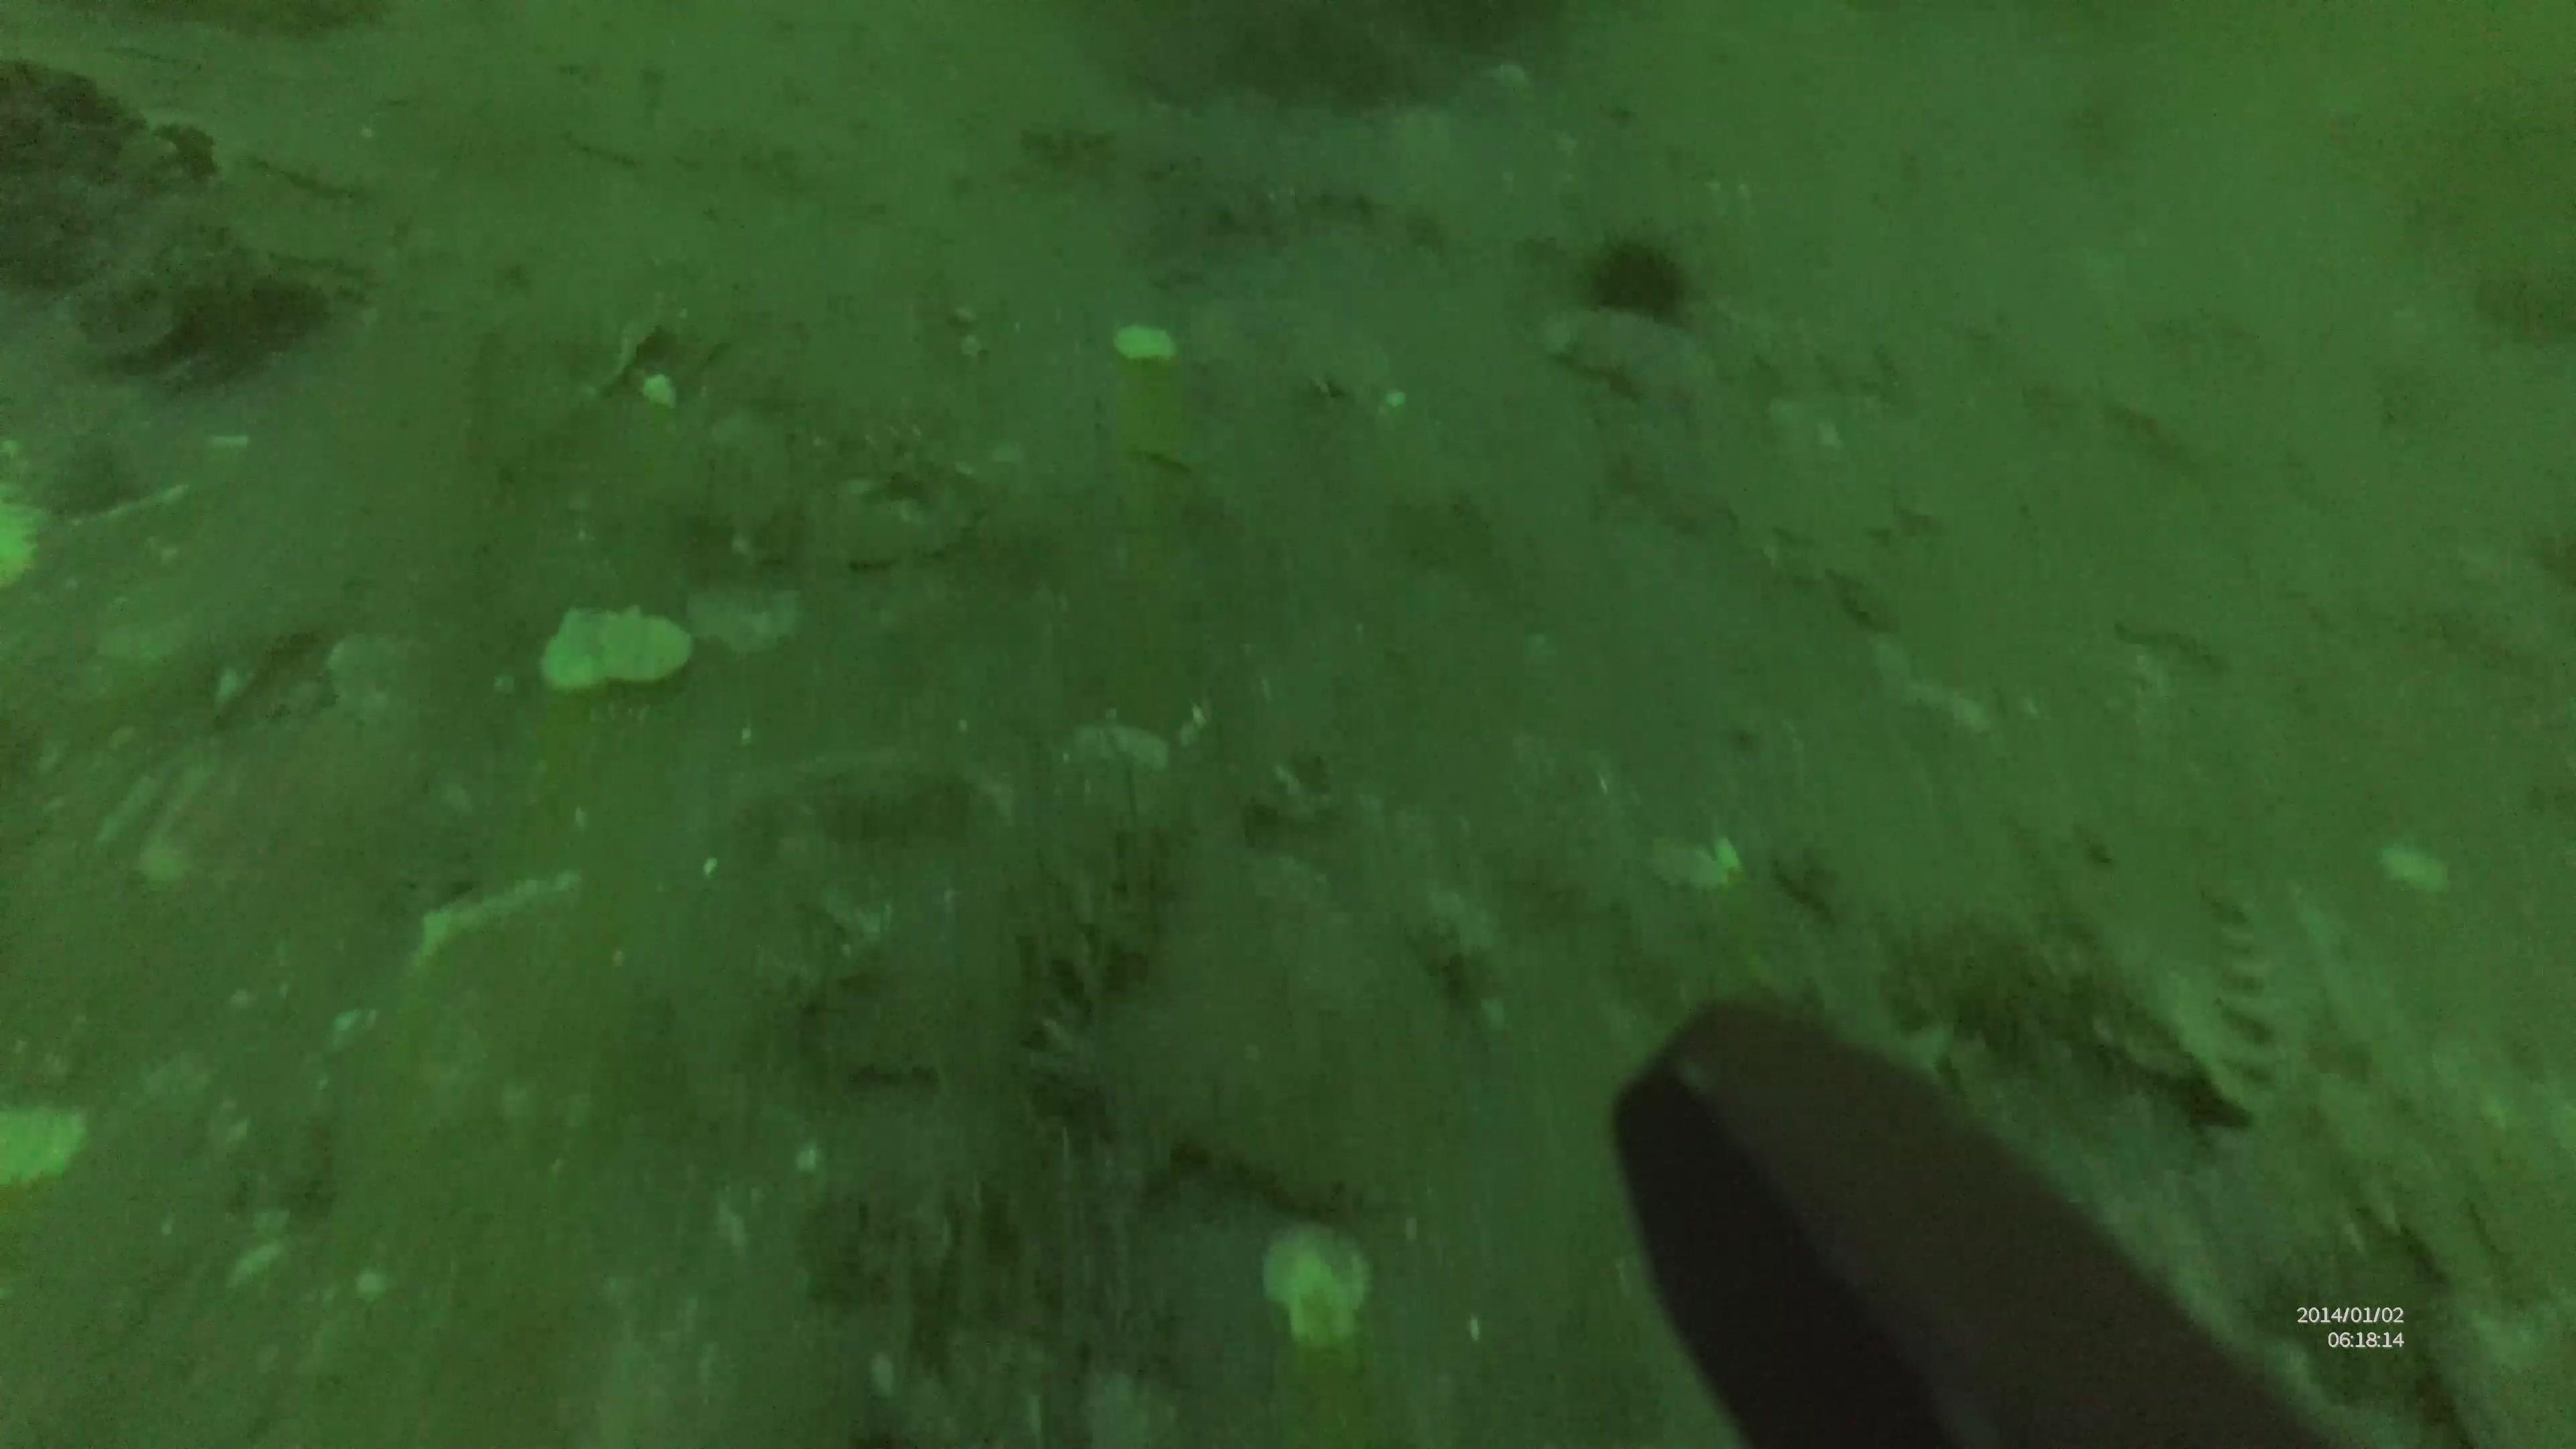echinus: (1587, 241, 1690, 331)
holothurian: (2197, 879, 2572, 1447), (1936, 1049, 2452, 1449)
scallop: (536, 602, 697, 701)
